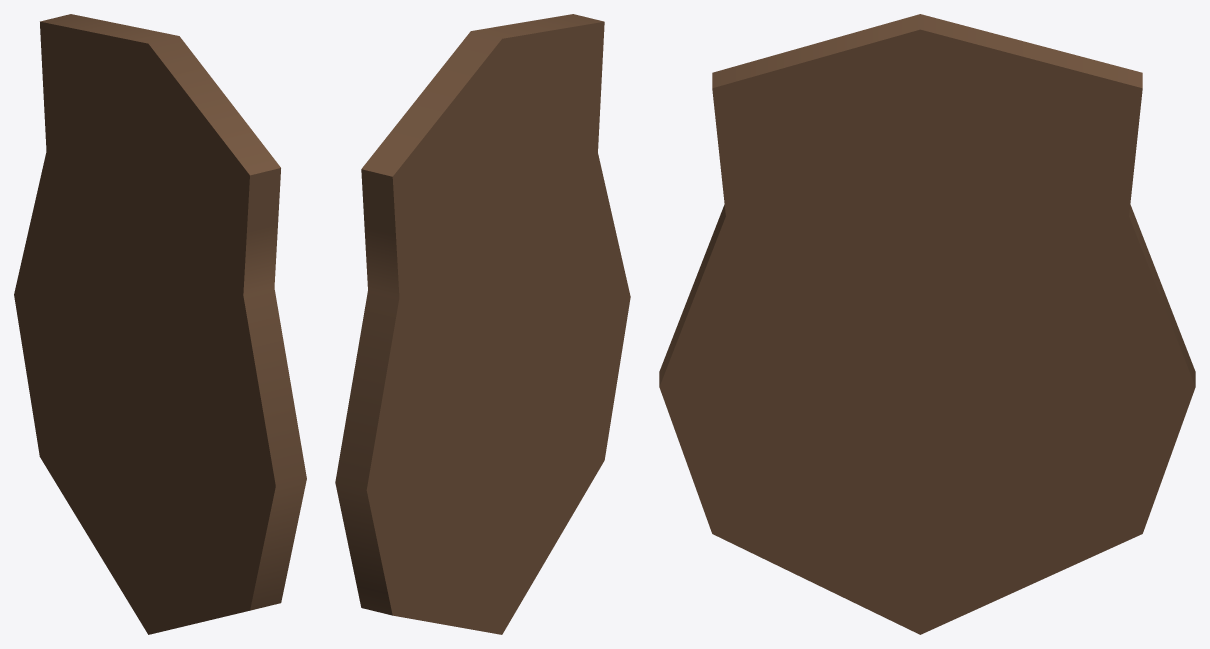
The model's file is Deer_Wood.fbx.
3 renders of one model, left to right at view 1: azimuth 30°, elevation 25°; view 2: azimuth 150°, elevation 25°; view 3: azimuth 270°, elevation 25°, orthographic. The views are drawn at different scales.
Parts seen in each view (by area): view 1: Deer_Wood; view 2: Deer_Wood; view 3: Deer_Wood.
Boxes of the visible parts, left/top/right/bottom form: Deer_Wood: left=14, top=14, right=306, bottom=634; Deer_Wood: left=335, top=14, right=630, bottom=634; Deer_Wood: left=659, top=14, right=1195, bottom=634.
Bounding box in the file's own units: 7 × 127 × 102.
